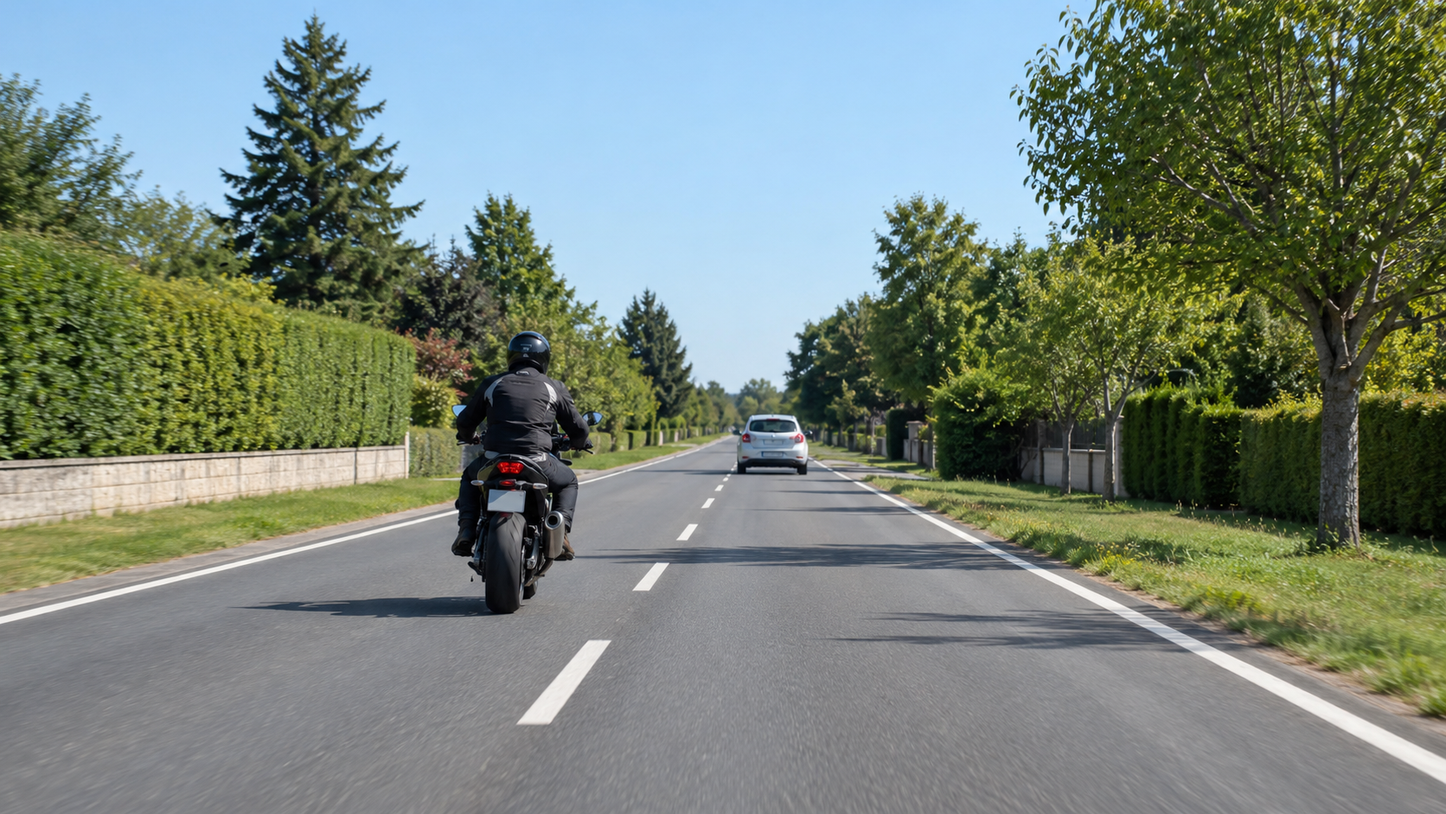car: (736, 410, 814, 476)
motorcycle: (442, 416, 604, 616)
person: (450, 333, 597, 566)
